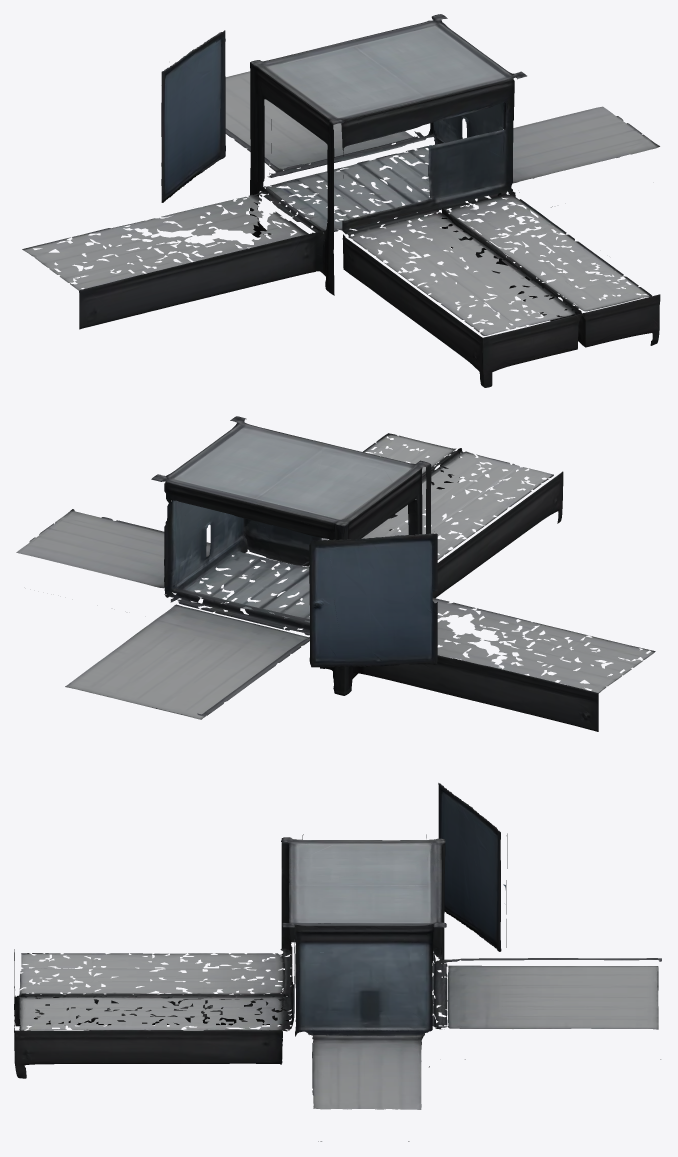
The picture shows the model from 3 angles, top to bottom: view 1: azimuth 30°, elevation 25°; view 2: azimuth 150°, elevation 25°; view 3: azimuth 270°, elevation 25°; orthographic projection. The views are drawn at different scales.
Parts seen in each view (by area): view 1: geometry_0; view 2: geometry_0; view 3: geometry_0.
Boxes of the visible parts, <box> form: geometry_0: <box>22,14,660,387</box>; geometry_0: <box>16,416,655,731</box>; geometry_0: <box>14,783,661,1141</box>.
Bounding box in the file's own units: 0.9984 × 0.2997 × 0.9984.
1 material, 1 textured.
